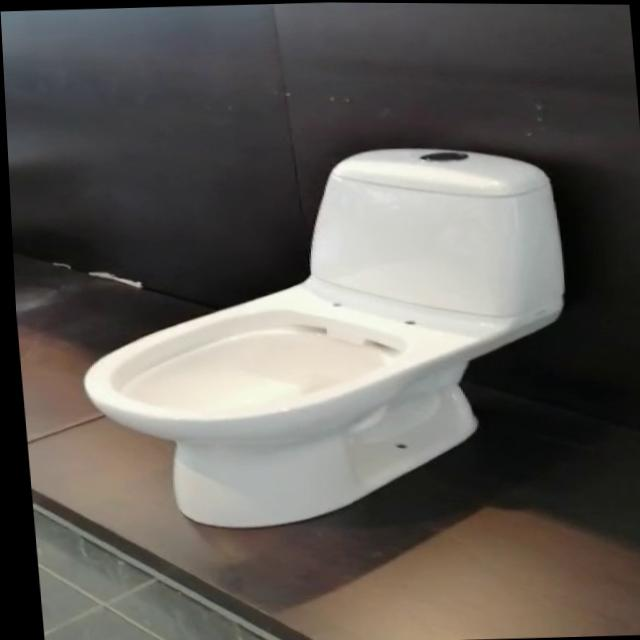toilet: (60, 138, 581, 535)
